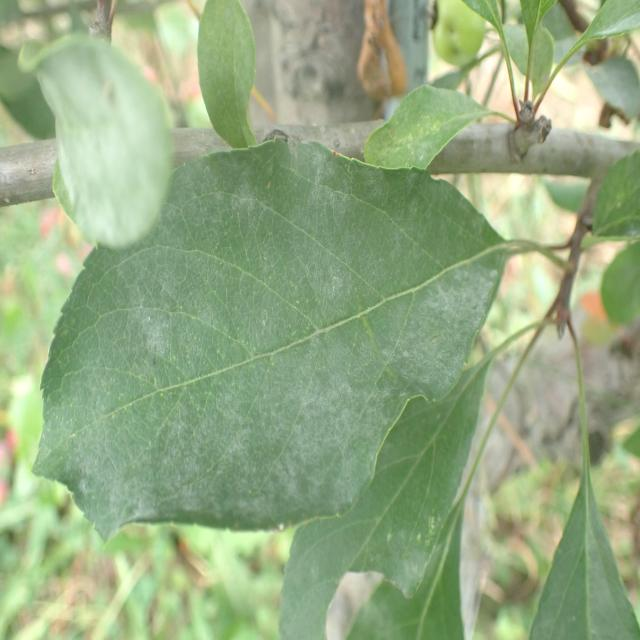Powdery_mildew: (36, 134, 523, 528)
